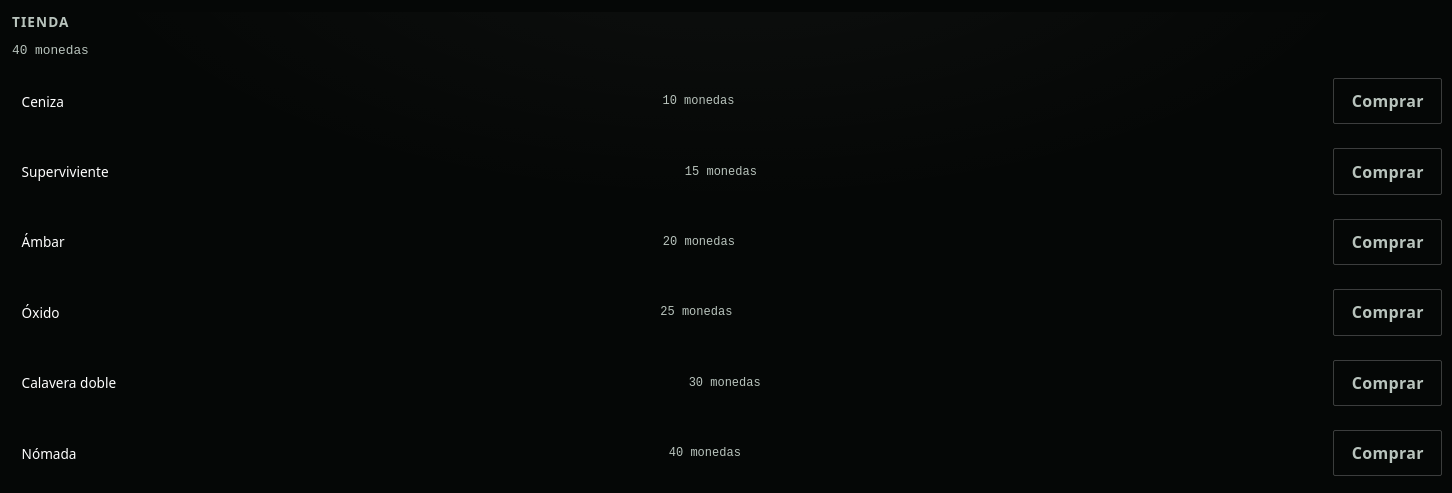
Test case: ShopPanel › marca la compra que está en marcha y no deja pulsar otra
Later steps or results of the test are not shown.
Expected: the text with class "shop-panel__balance" is shown, [12, 43, 89, 58]
Click the button "Comprar" in the row of "Ceniza".
click(1388, 101)  # box [1333, 78, 1442, 124]
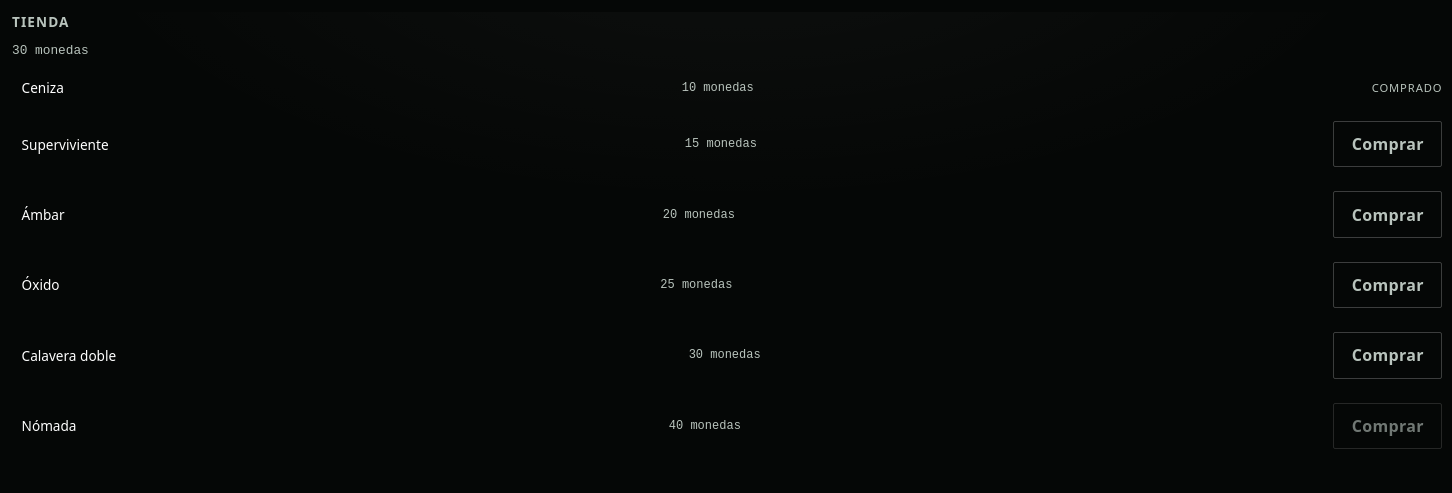
Expected: the text with class "shop-panel__balance" is shown, [12, 43, 89, 58]
Result: the button "Comprar" in the row of "Nómada" is disabled at [1333, 402, 1442, 449]
Result: the text "Comprado" is shown at [1372, 80, 1442, 95]
